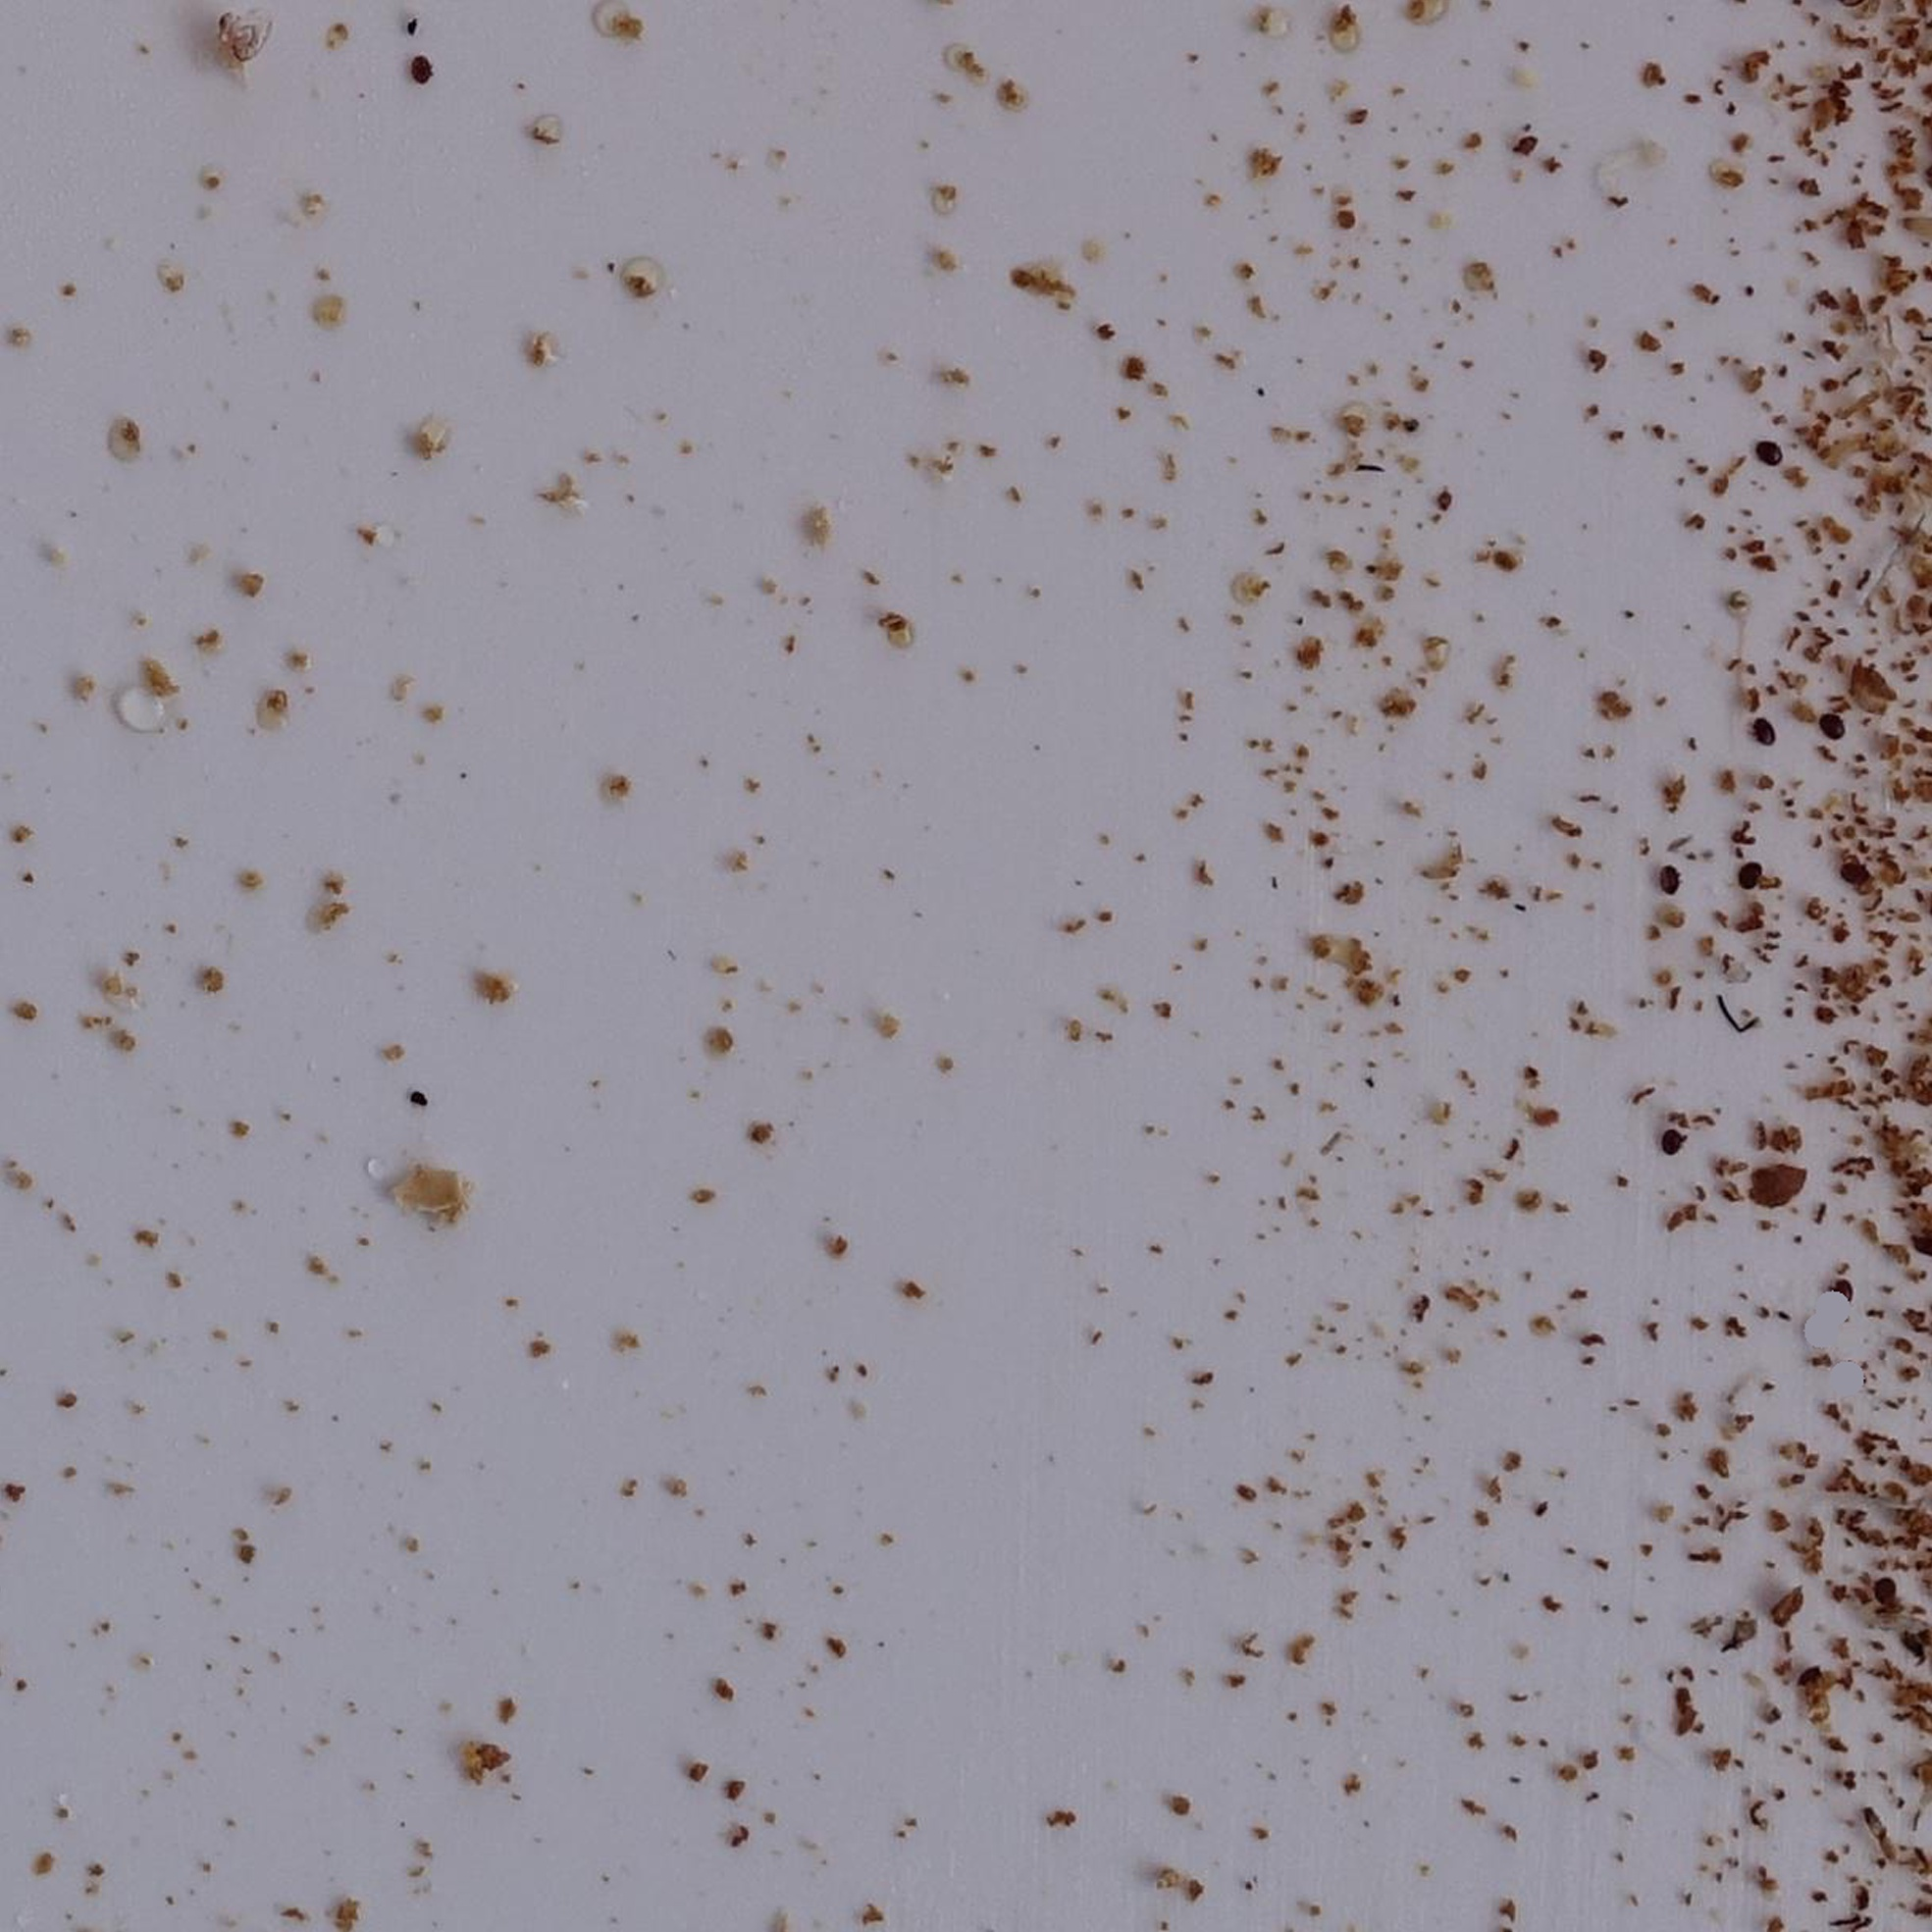Varroa: (1838, 860, 1868, 888), (1757, 439, 1783, 469), (1752, 718, 1778, 747), (1656, 1129, 1683, 1155), (1737, 856, 1762, 885), (409, 51, 433, 78), (1874, 1575, 1898, 1601), (1821, 711, 1847, 736), (1658, 867, 1677, 892), (1835, 1277, 1852, 1295)
